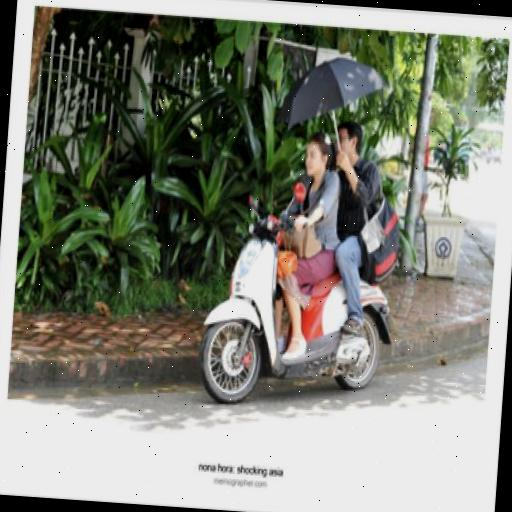no helmet: (198, 120, 346, 408)
